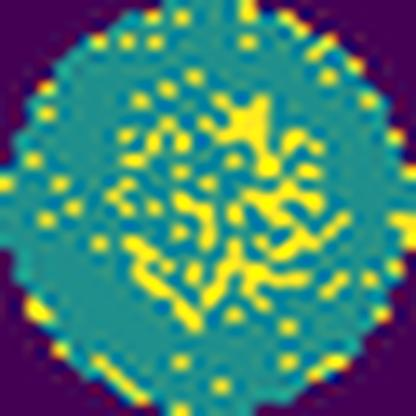Donut: (103, 70, 359, 337)
